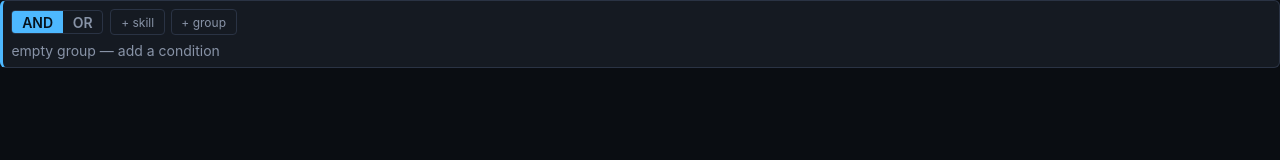
Test: GroupEditor › adds a nested subgroup with the opposite operator
Click the button "+ group" at (204, 22), box [171, 9, 237, 35]
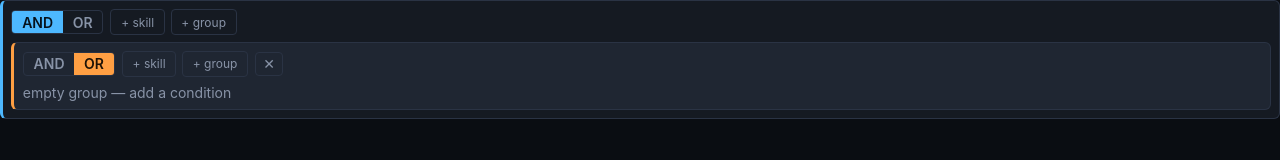
Result: the button named "Remove group" is shown at [255, 52, 283, 76]
